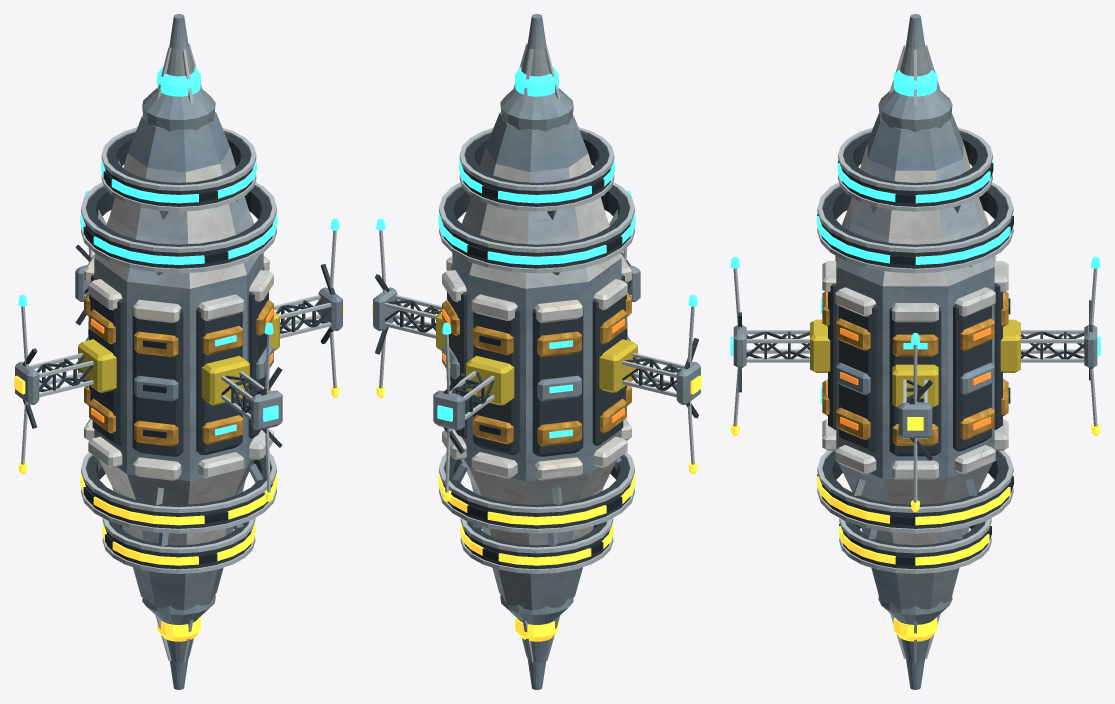
File: nav_beacon_array.glb
The picture shows the model from 3 angles, left to right: view 1: azimuth 30°, elevation 25°; view 2: azimuth 150°, elevation 25°; view 3: azimuth 270°, elevation 25°; orthographic projection.
Parts seen in each view (by area): view 1: Armored octagonal transponder and ceramic impact shields, Upper cyan and lower amber navigation rings, Four radial dipole booms, Axial aerials and primary lamps; view 2: Armored octagonal transponder and ceramic impact shields, Upper cyan and lower amber navigation rings, Four radial dipole booms, Axial aerials and primary lamps; view 3: Armored octagonal transponder and ceramic impact shields, Upper cyan and lower amber navigation rings, Four radial dipole booms, Axial aerials and primary lamps.
Part boxes in pixels (x1=…): Armored octagonal transponder and ceramic impact shields: x1=84, y1=112, x2=273, y2=610; Upper cyan and lower amber navigation rings: x1=80, y1=127, x2=277, y2=573; Four radial dipole booms: x1=14, y1=190, x2=343, y2=501; Axial aerials and primary lamps: x1=142, y1=14, x2=215, y2=689; Armored octagonal transponder and ceramic impact shields: x1=442, y1=112, x2=631, y2=610; Upper cyan and lower amber navigation rings: x1=438, y1=127, x2=635, y2=573; Four radial dipole booms: x1=372, y1=190, x2=701, y2=501; Axial aerials and primary lamps: x1=500, y1=14, x2=573, y2=689; Armored octagonal transponder and ceramic impact shields: x1=820, y1=113, x2=1010, y2=609; Upper cyan and lower amber navigation rings: x1=817, y1=127, x2=1013, y2=573; Four radial dipole booms: x1=730, y1=256, x2=1100, y2=511; Axial aerials and primary lamps: x1=878, y1=14, x2=952, y2=689.
Bounding box in the file's own units: 12 × 24 × 12.
Materials: 11 (4 with a texture image).
